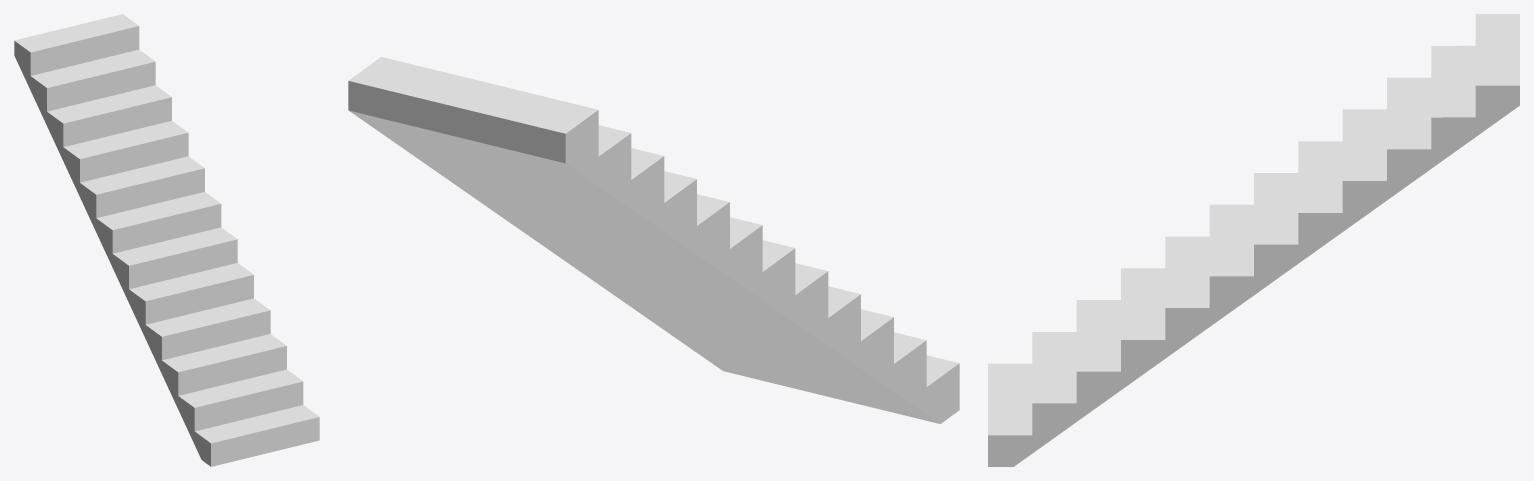
The model's file is Stairs_060.glb.
The picture shows the model from 3 angles, left to right: view 1: azimuth 30°, elevation 25°; view 2: azimuth 150°, elevation 25°; view 3: azimuth 270°, elevation 25°; orthographic projection. The views are drawn at different scales.
Visible parts, largest first — view 1: Stairs_060; view 2: Stairs_060; view 3: Stairs_060.
Part boxes in pixels (x1=…): Stairs_060: x1=14, y1=14, x2=319, y2=466; Stairs_060: x1=348, y1=57, x2=959, y2=423; Stairs_060: x1=988, y1=14, x2=1519, y2=466.
Bounding box in the file's own units: 1.62 × 4.02 × 5.08.
1 material, 1 textured.
